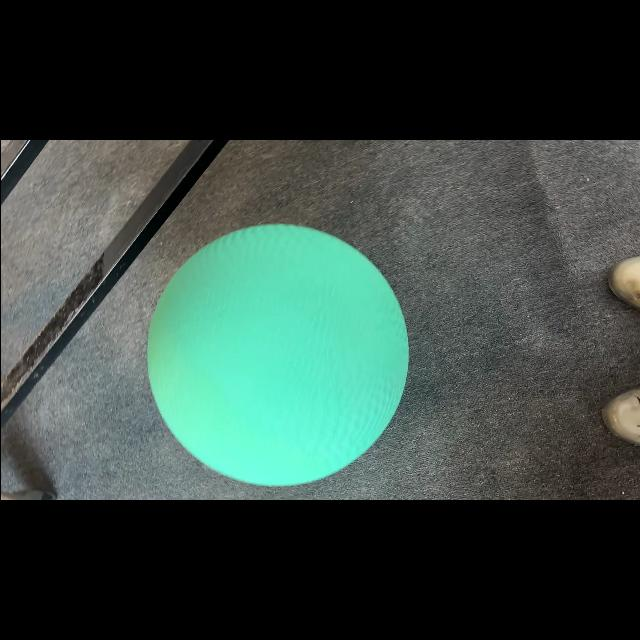ALGAE: (144, 223, 408, 487)
